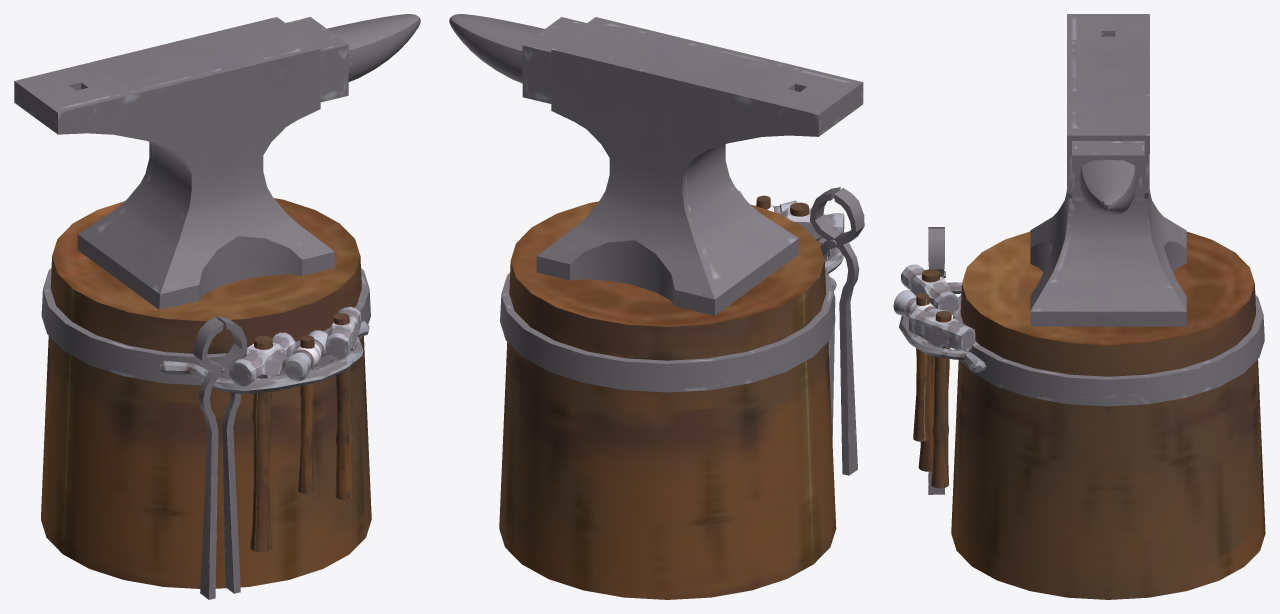
Rendered from Anvil_Log.gltf.
3 views of the same model, side by side, from view 1: azimuth 30°, elevation 25°; view 2: azimuth 150°, elevation 25°; view 3: azimuth 270°, elevation 25° (orthographic). The views are drawn at different scales.
Visible parts, largest first — view 1: Anvil_Log; view 2: Anvil_Log; view 3: Anvil_Log.
Boxes of the visible parts, <box> form: Anvil_Log: <box>14,14,420,599</box>; Anvil_Log: <box>449,14,864,599</box>; Anvil_Log: <box>893,14,1265,599</box>.
Size of the model in its own units: 0.9293 by 1.07 by 0.8214.
Materials: 3 (3 with a texture image).
